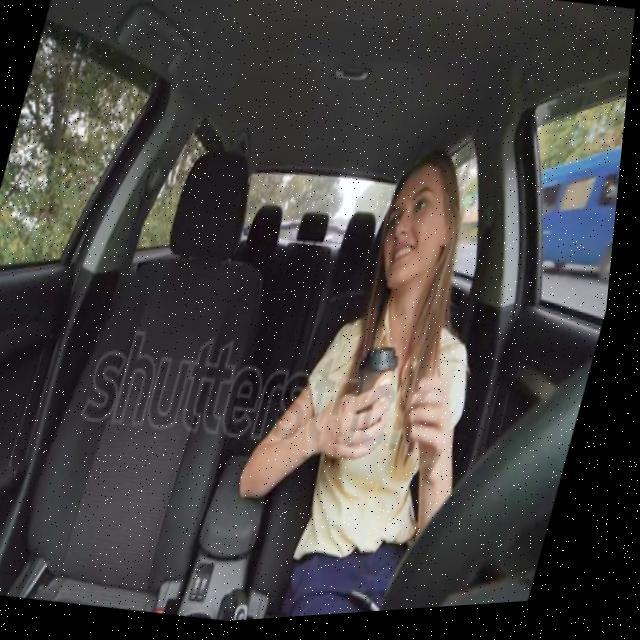Drinking: (346, 350, 412, 465)
